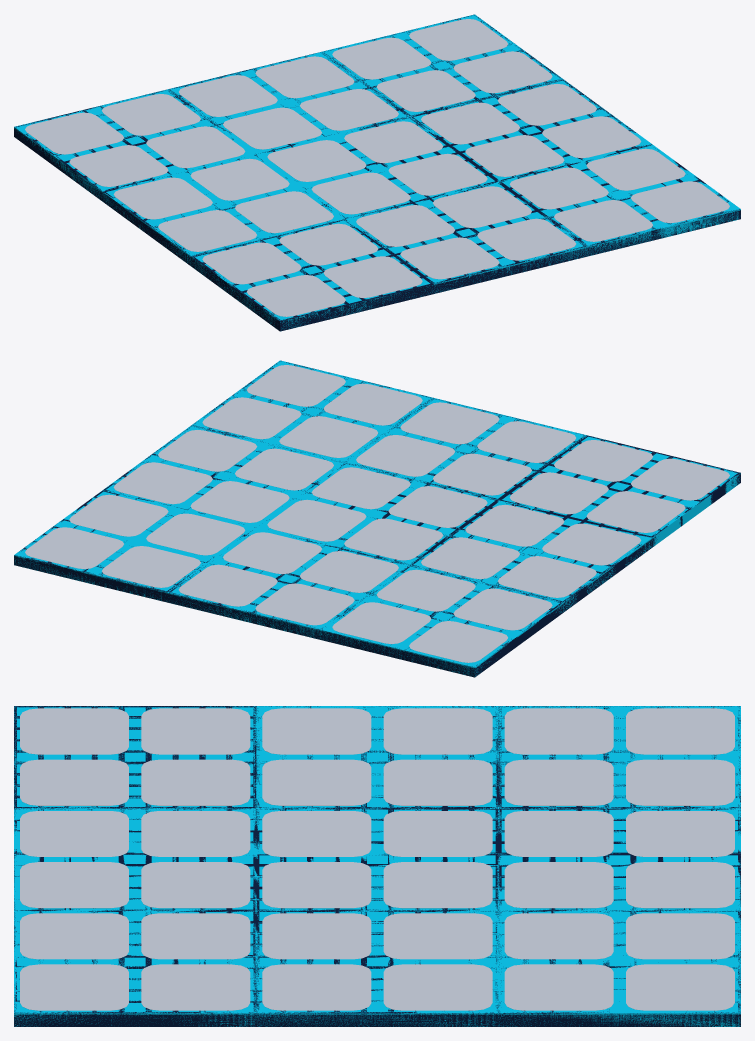
File: floorPack.fbx
3 renders of one model, top to bottom at view 1: azimuth 30°, elevation 25°; view 2: azimuth 150°, elevation 25°; view 3: azimuth 270°, elevation 25°, orthographic. The views are drawn at different scales.
Parts seen in each view (by area): view 1: Cube.020, Cube.021, Cube.018, Cube.022, Cube.017, Cube.019; view 2: Cube.020, Cube.021, Cube.018, Cube.022, Cube.019, Cube.017; view 3: Cube.020, Cube.021, Cube.018, Cube.022, Cube.019, Cube.017.
Part boxes in pixels (left/top/right/bottom): Cube.020: left=14, top=19, right=740, bottom=293; Cube.021: left=14, top=14, right=740, bottom=293; Cube.018: left=191, top=223, right=433, bottom=331; Cube.022: left=14, top=14, right=740, bottom=291; Cube.017: left=191, top=219, right=433, bottom=331; Cube.019: left=191, top=219, right=432, bottom=329; Cube.020: left=14, top=365, right=652, bottom=677; Cube.021: left=14, top=360, right=652, bottom=676; Cube.018: left=509, top=440, right=740, bottom=546; Cube.022: left=14, top=360, right=649, bottom=676; Cube.019: left=502, top=435, right=740, bottom=547; Cube.017: left=499, top=435, right=740, bottom=546; Cube.020: left=14, top=708, right=740, bottom=1026; Cube.021: left=14, top=706, right=740, bottom=1026; Cube.018: left=20, top=708, right=250, bottom=805; Cube.022: left=14, top=706, right=740, bottom=1026; Cube.019: left=14, top=706, right=256, bottom=808; Cube.017: left=14, top=706, right=256, bottom=808.
Size of the model in its own units: 600 by 12.61 by 600.
